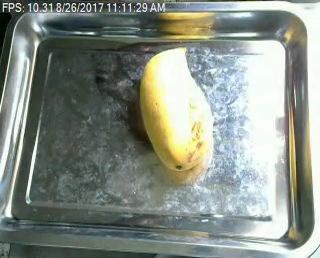Mango: (136, 45, 214, 176)
